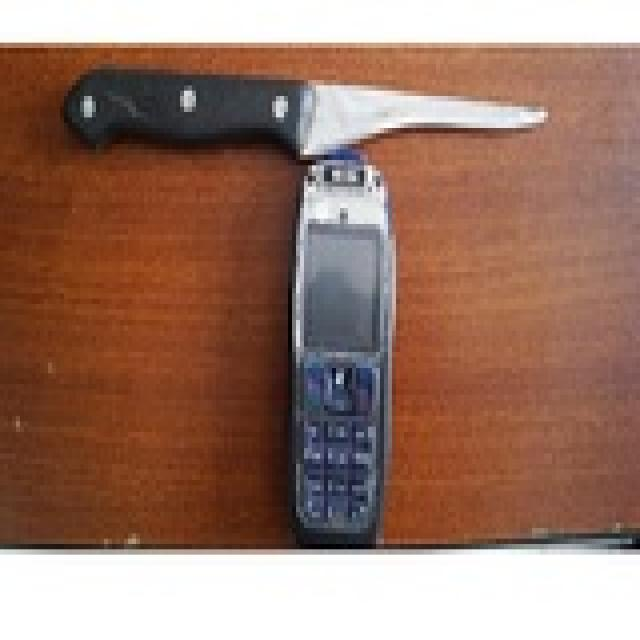Knife: (46, 50, 576, 164)
